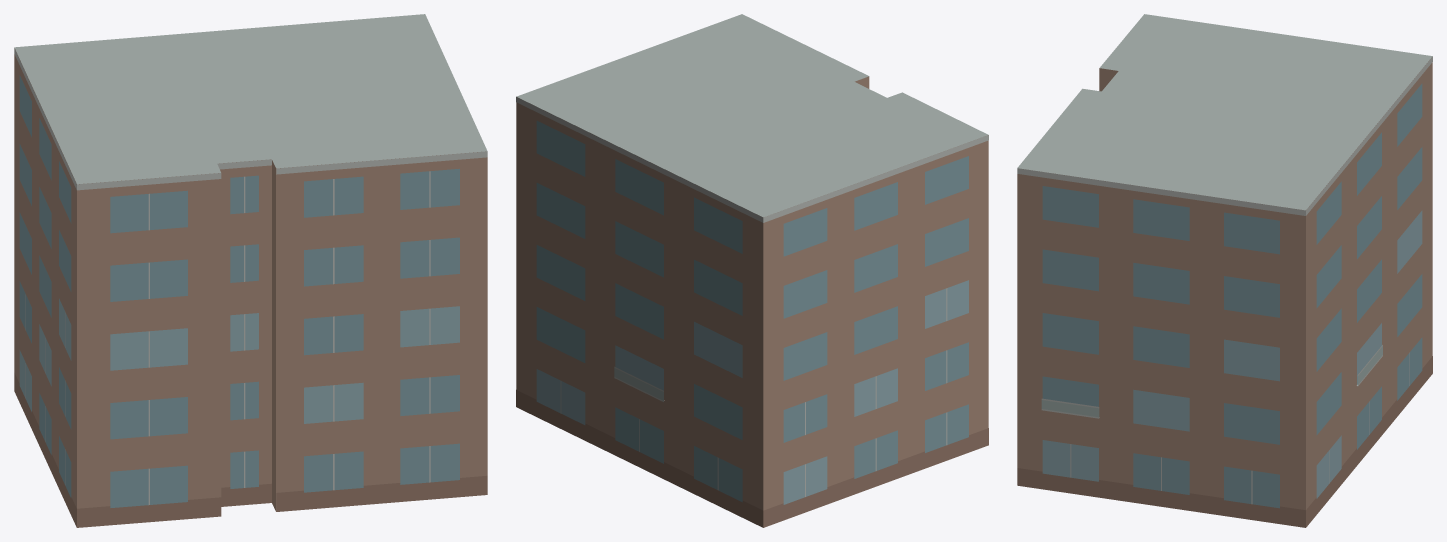
The model's file is survey-upis-32699851.glb.
3 views of the same model, side by side, from view 1: azimuth 30°, elevation 25°; view 2: azimuth 150°, elevation 25°; view 3: azimuth 270°, elevation 25° (orthographic). The views are drawn at different scales.
Visible parts, largest first — view 1: survey-upis-32699851.tmp; view 2: survey-upis-32699851.tmp; view 3: survey-upis-32699851.tmp.
Part boxes in pixels (x1,y1,x2,y2): survey-upis-32699851.tmp: (14, 14, 487, 527); survey-upis-32699851.tmp: (516, 14, 988, 527); survey-upis-32699851.tmp: (1017, 14, 1432, 527).
Size of the model in its own units: 18.19 by 13.7 by 16.26.
